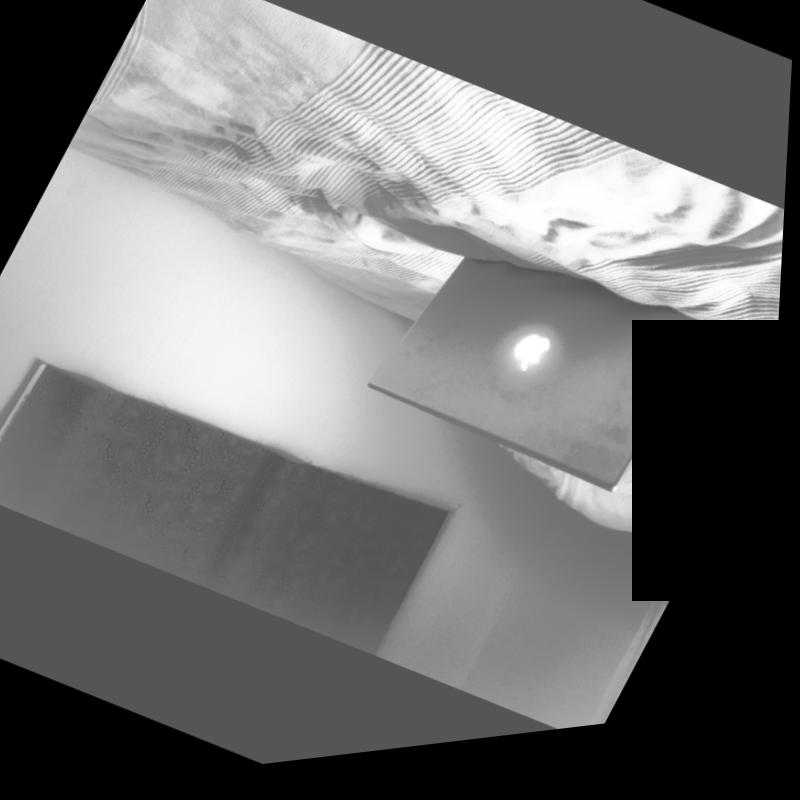pillow: (475, 388, 718, 592), (612, 394, 770, 568)
